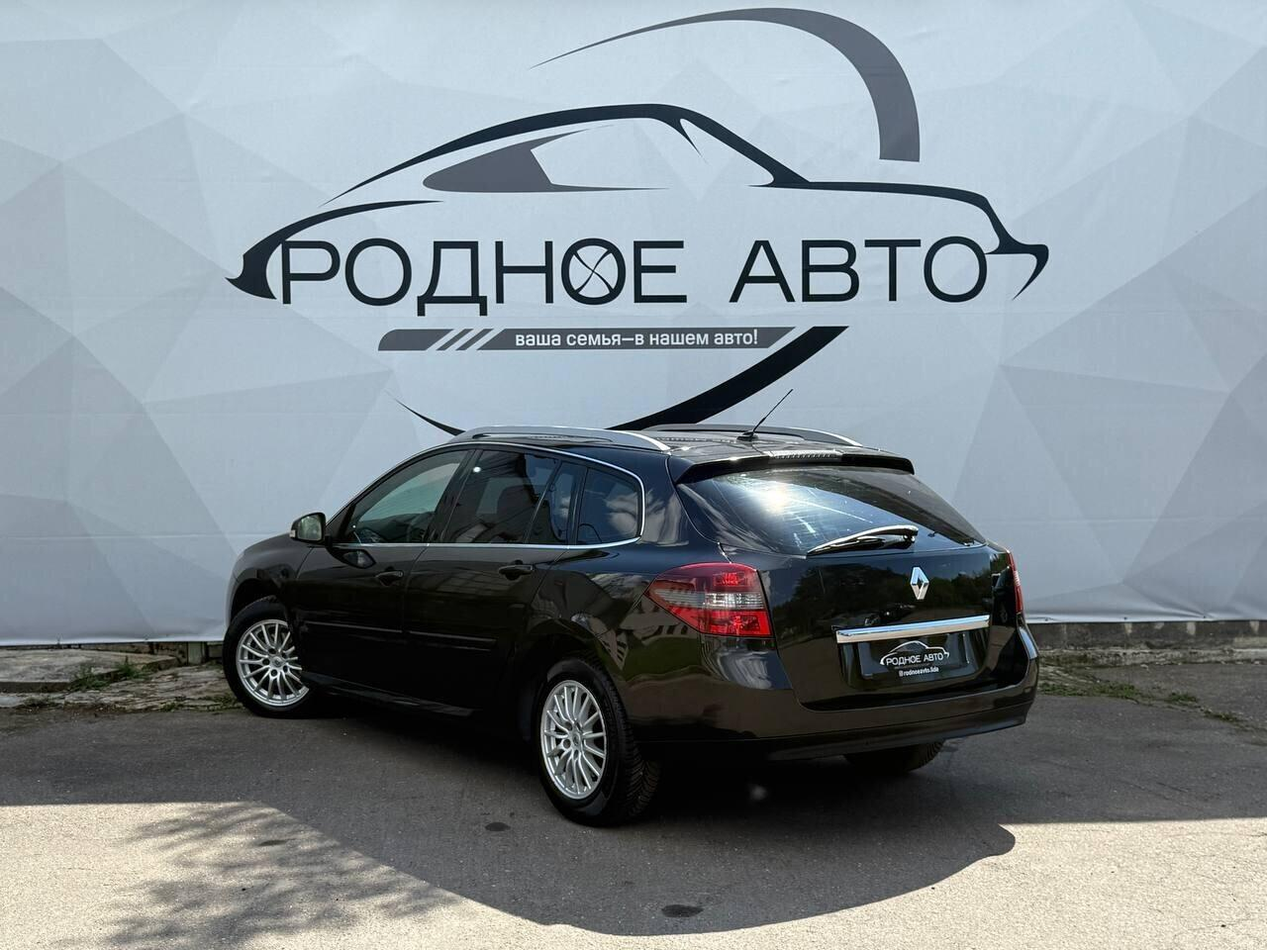Laguna_2010-2015: (214, 412, 1060, 823)
